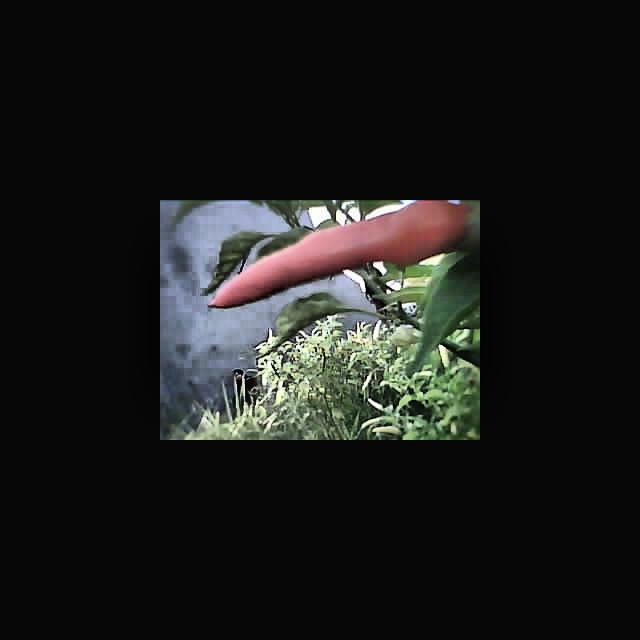Cabai: (205, 200, 476, 290)
